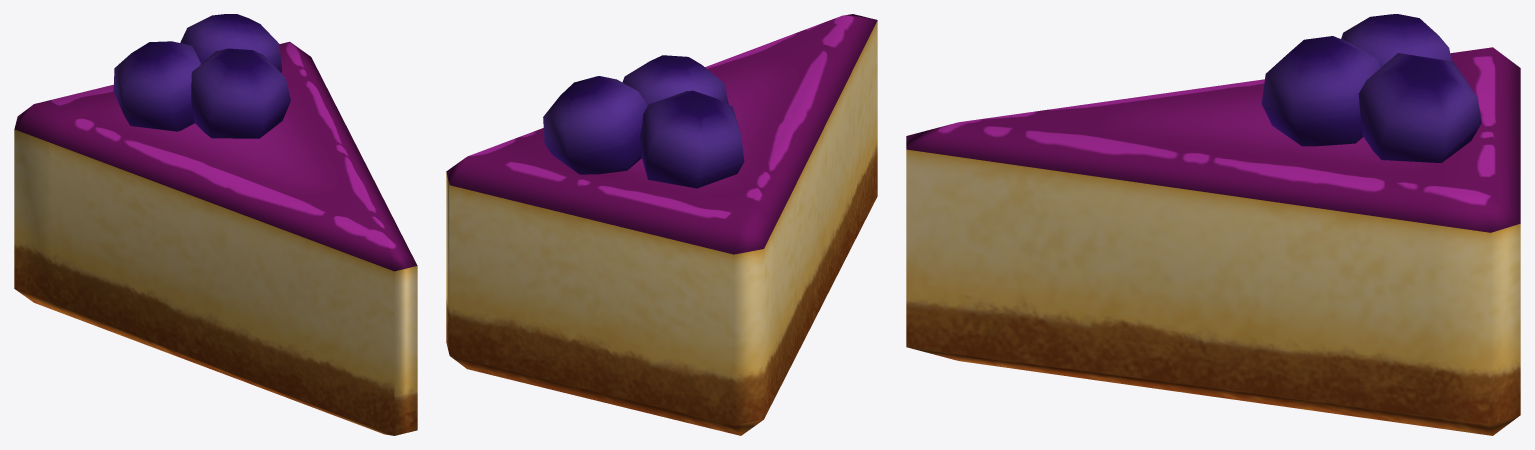
The model's file is Blueberry_Cheesecake_Slice.fbx.
3 renders of one model, left to right at view 1: azimuth 30°, elevation 25°; view 2: azimuth 150°, elevation 25°; view 3: azimuth 270°, elevation 25°, orthographic. The views are drawn at different scales.
Parts seen in each view (by area): view 1: Blueberry_Cheesecake_Slice; view 2: Blueberry_Cheesecake_Slice; view 3: Blueberry_Cheesecake_Slice.
Boxes of the visible parts, <box> form: Blueberry_Cheesecake_Slice: <box>14,14,417,435</box>; Blueberry_Cheesecake_Slice: <box>446,14,877,435</box>; Blueberry_Cheesecake_Slice: <box>906,14,1520,435</box>.
Size of the model in its own units: 26.02 by 22.46 by 38.81.
